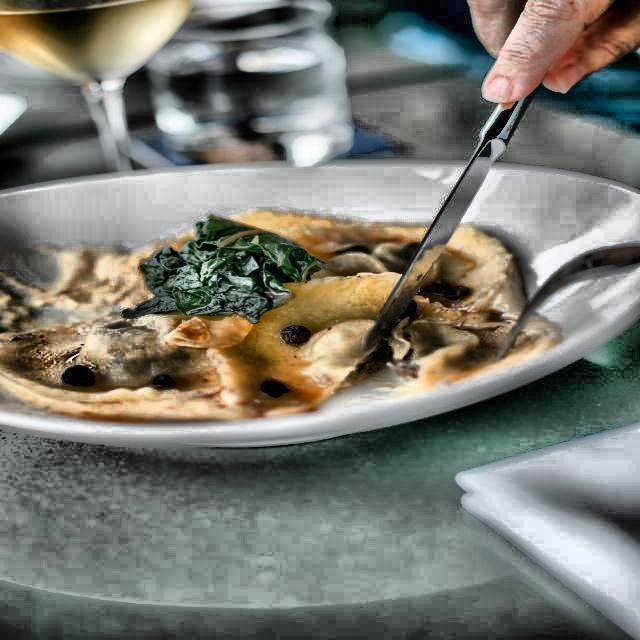knife: (360, 53, 556, 361)
